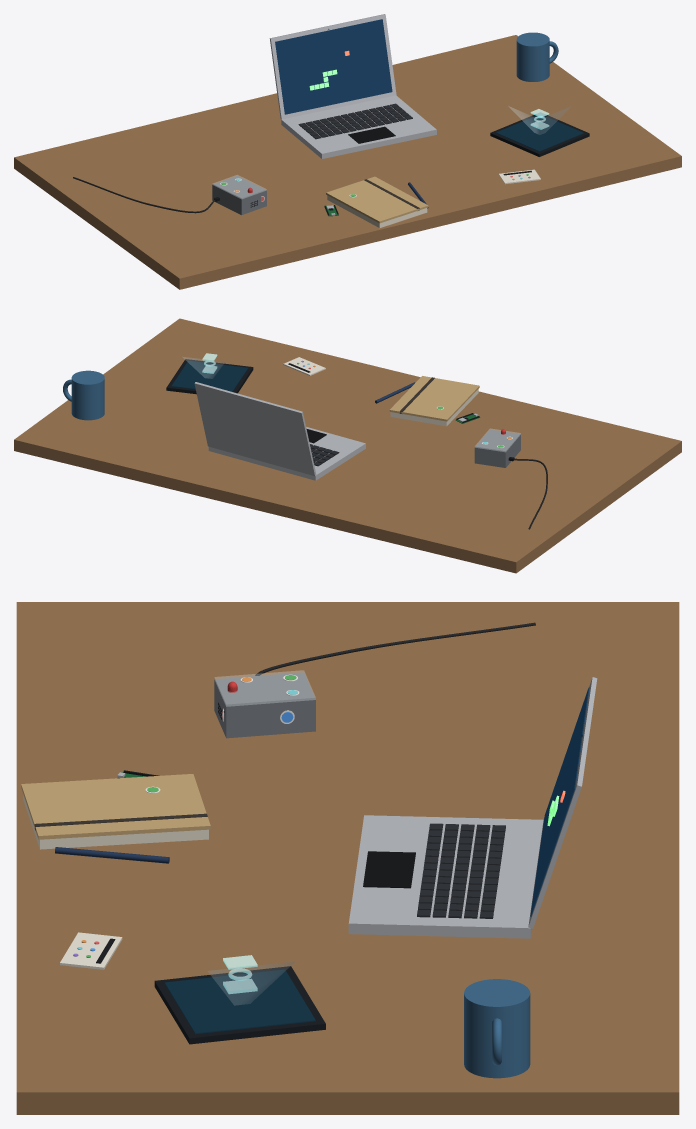
3 views of the same model, one above another, from view 1: azimuth 30°, elevation 25°; view 2: azimuth 150°, elevation 25°; view 3: azimuth 270°, elevation 25° (orthographic). The views are drawn at different scales.
Visible parts, largest first — view 1: desk, laptop-glass, laptop-base, notebook-cover, laptop-screen, pyramid-face, mug, puck-shell, pyramid-base, puck-lid, pyramid-glass, notebook-pages (+1 smaller); view 2: desk, laptop-screen, notebook-cover, laptop-base, mug, pyramid-face, puck-shell, puck-lid, pyramid-base, pyramid-glass, notebook-pages, hooks-card; view 3: desk, laptop-base, notebook-cover, pyramid-face, mug, puck-shell, pyramid-base, laptop-glass, puck-lid, pyramid-glass, notebook-pages, laptop-screen (+4 smaller).
Part boxes in pixels (x1,y1,x2,y2): desk: (14, 35, 681, 289); laptop-glass: (275, 19, 392, 114); laptop-base: (281, 95, 436, 158); notebook-cover: (326, 176, 428, 223); laptop-screen: (269, 14, 396, 119); pyramid-face: (496, 114, 583, 151); mug: (516, 32, 549, 81); puck-shell: (212, 176, 266, 215); pyramid-base: (490, 112, 589, 156); puck-lid: (212, 175, 266, 198); pyramid-glass: (509, 106, 570, 134); notebook-pages: (327, 195, 427, 227); desk: (14, 318, 681, 573); laptop-screen: (194, 382, 316, 475); notebook-cover: (389, 376, 479, 421); laptop-base: (208, 427, 365, 480); mug: (71, 370, 104, 420); pyramid-face: (171, 360, 247, 391); puck-shell: (474, 429, 520, 467); puck-lid: (475, 428, 520, 451); pyramid-base: (166, 359, 253, 394); pyramid-glass: (183, 357, 224, 378); notebook-pages: (390, 389, 478, 426); hooks-card: (283, 357, 325, 375); desk: (16, 602, 679, 1114); laptop-base: (348, 815, 543, 938); notebook-cover: (21, 774, 210, 839); pyramid-face: (164, 969, 315, 1034); mug: (464, 979, 530, 1078); puck-shell: (214, 672, 315, 738); pyramid-base: (154, 966, 325, 1044); laptop-glass: (530, 687, 589, 916); puck-lid: (214, 670, 315, 706); pyramid-glass: (208, 962, 294, 1005); notebook-pages: (23, 794, 208, 849); laptop-screen: (528, 677, 597, 928).
Size of the model in its own units: 1.4 by 0.236 by 0.8.
